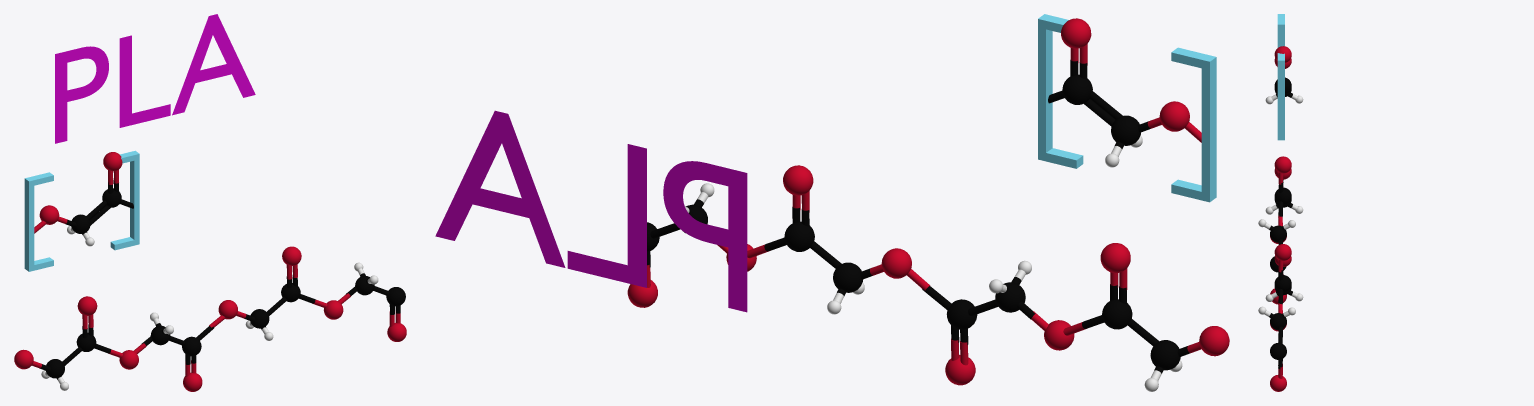
The model's file is PLA.glb.
The picture shows the model from 3 angles, left to right: view 1: azimuth 30°, elevation 25°; view 2: azimuth 150°, elevation 25°; view 3: azimuth 270°, elevation 25°; orthographic projection. The views are drawn at different scales.
Visible parts, largest first — view 1: Text.003, Cube.007, Cube.008; view 2: Text.003, Cube.007, Cube.008, Shape_IndexedFaceSet.1162, Shape_IndexedFaceSet.1169, Shape_IndexedFaceSet.1446, Shape_IndexedFaceSet.1479, Shape_IndexedFaceSet.1484, Shape_IndexedFaceSet.1441, Shape_IndexedFaceSet.1438, Shape_IndexedFaceSet.1476, Shape_IndexedFaceSet.1155 (+5 smaller); view 3: Cube.008, Cube.007, Shape_IndexedFaceSet.1441, Shape_IndexedFaceSet.1479, Shape_IndexedFaceSet.1495.
Boxes of the visible parts, x1=… form: Text.003: x1=55, y1=14, x2=255, y2=143; Cube.007: x1=24, y1=172, x2=53, y2=271; Cube.008: x1=110, y1=150, x2=139, y2=250; Text.003: x1=435, y1=110, x2=747, y2=312; Cube.007: x1=1171, y1=47, x2=1216, y2=202; Cube.008: x1=1038, y1=14, x2=1083, y2=168; Shape_IndexedFaceSet.1162: x1=1061, y1=18, x2=1091, y2=48; Shape_IndexedFaceSet.1169: x1=1159, y1=101, x2=1189, y2=131; Shape_IndexedFaceSet.1446: x1=1199, y1=326, x2=1229, y2=356; Shape_IndexedFaceSet.1479: x1=783, y1=165, x2=813, y2=195; Shape_IndexedFaceSet.1484: x1=881, y1=248, x2=911, y2=278; Shape_IndexedFaceSet.1441: x1=1100, y1=243, x2=1130, y2=273; Shape_IndexedFaceSet.1438: x1=1102, y1=299, x2=1132, y2=329; Shape_IndexedFaceSet.1476: x1=784, y1=221, x2=814, y2=251; Shape_IndexedFaceSet.1155: x1=1062, y1=74, x2=1092, y2=104; Cube.008: x1=1277, y1=53, x2=1284, y2=140; Cube.007: x1=1277, y1=14, x2=1284, y2=47; Shape_IndexedFaceSet.1441: x1=1274, y1=156, x2=1291, y2=173; Shape_IndexedFaceSet.1479: x1=1274, y1=244, x2=1291, y2=260; Shape_IndexedFaceSet.1495: x1=1270, y1=342, x2=1286, y2=359.
Size of the model in its own units: 147 by 92.43 by 97.77.
